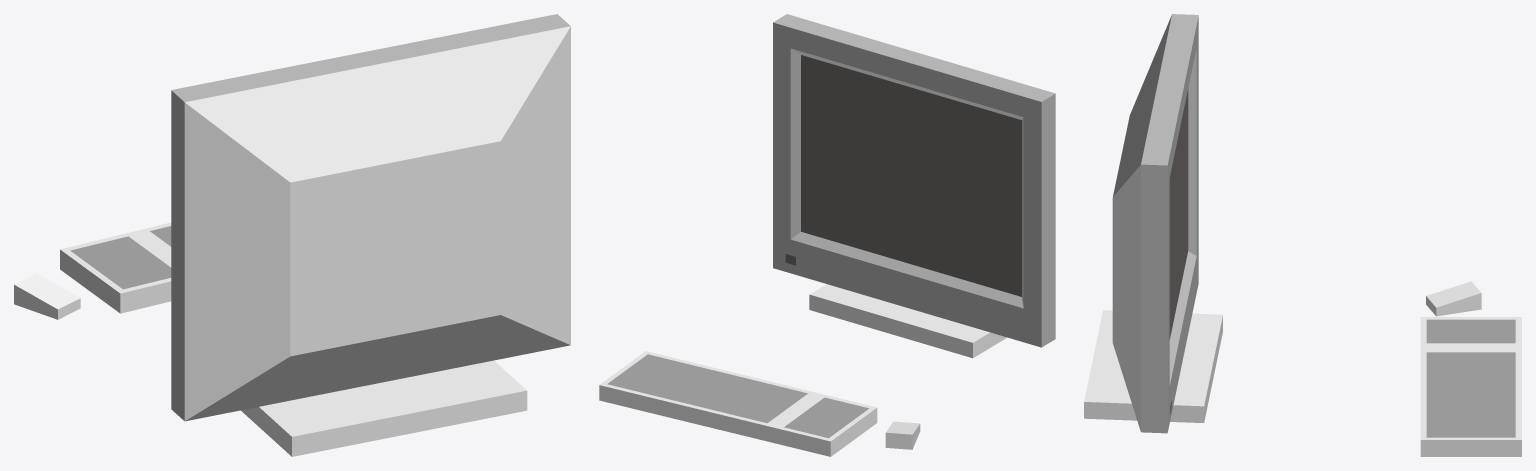
File: SM_Comp_01.fbx
3 views of the same model, side by side, from view 1: azimuth 30°, elevation 25°; view 2: azimuth 150°, elevation 25°; view 3: azimuth 270°, elevation 25° (orthographic). The views are drawn at different scales.
Visible parts, largest first — view 1: SM_Comp_01; view 2: SM_Comp_01; view 3: SM_Comp_01.
Boxes of the visible parts, box(x1,y1,x2,y2) form: SM_Comp_01: box(14, 14, 570, 456); SM_Comp_01: box(599, 14, 1055, 456); SM_Comp_01: box(1084, 14, 1521, 456).
Size of the model in its own units: 67.27 by 56.95 by 79.03.
